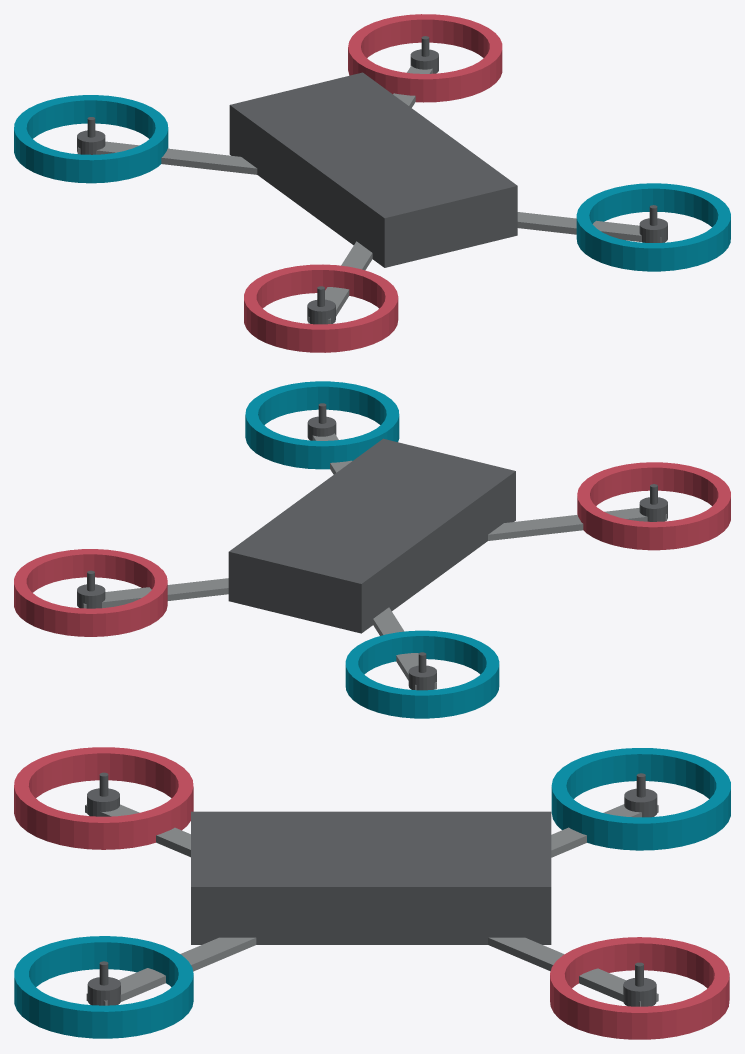
File: drone(old).glb
The picture shows the model from 3 angles, top to bottom: view 1: azimuth 30°, elevation 25°; view 2: azimuth 150°, elevation 25°; view 3: azimuth 270°, elevation 25°; orthographic projection. The views are drawn at different scales.
Visible parts, largest first — view 1: Mesh_Mesh_head_geo.001_lambert2SG.001; view 2: Mesh_Mesh_head_geo.001_lambert2SG.001; view 3: Mesh_Mesh_head_geo.001_lambert2SG.001.
Part boxes in pixels (left/top/right/bottom): Mesh_Mesh_head_geo.001_lambert2SG.001: left=14, top=14, right=730, bottom=352; Mesh_Mesh_head_geo.001_lambert2SG.001: left=14, top=381, right=730, bottom=718; Mesh_Mesh_head_geo.001_lambert2SG.001: left=14, top=747, right=730, bottom=1039.
Size of the model in its own units: 69.96 by 7.1 by 79.8.
